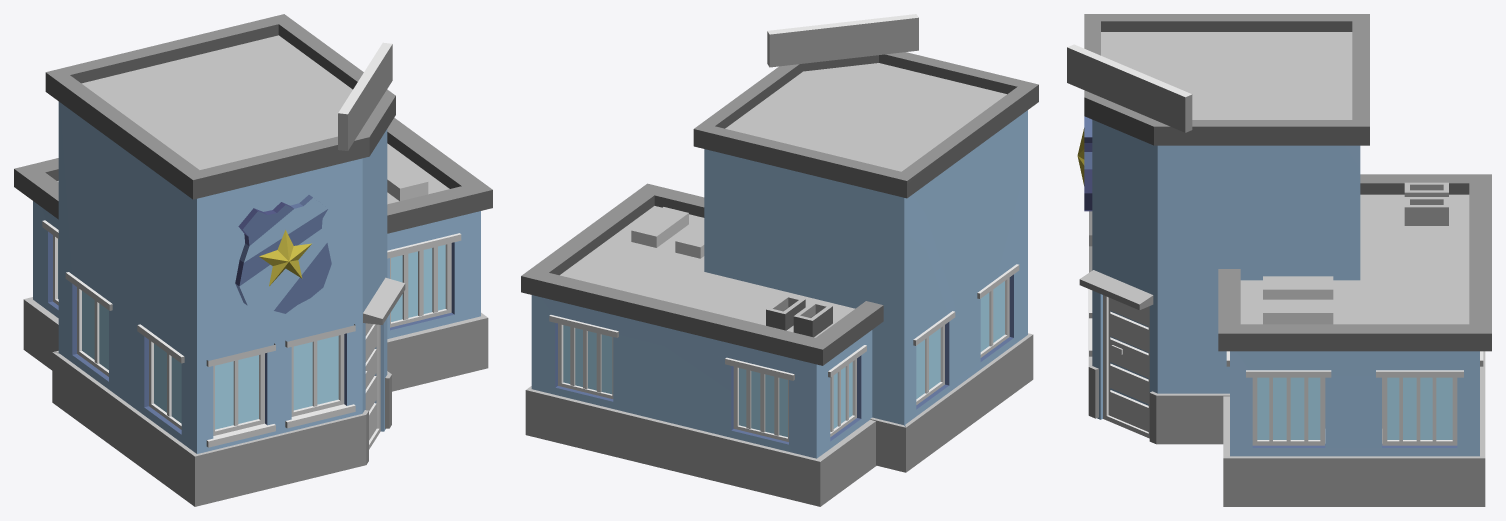
Rendered from house_purpose_003.fbx.
3 renders of one model, left to right at view 1: azimuth 30°, elevation 25°; view 2: azimuth 150°, elevation 25°; view 3: azimuth 270°, elevation 25°, orthographic. The views are drawn at different scales.
Parts seen in each view (by area): view 1: house_purpose_003; view 2: house_purpose_003; view 3: house_purpose_003.
Part boxes in pixels (left/top/right/bottom): house_purpose_003: left=14, top=14, right=492, bottom=506; house_purpose_003: left=521, top=14, right=1038, bottom=506; house_purpose_003: left=1067, top=14, right=1491, bottom=506.
Size of the model in its own units: 741 by 707 by 763.
